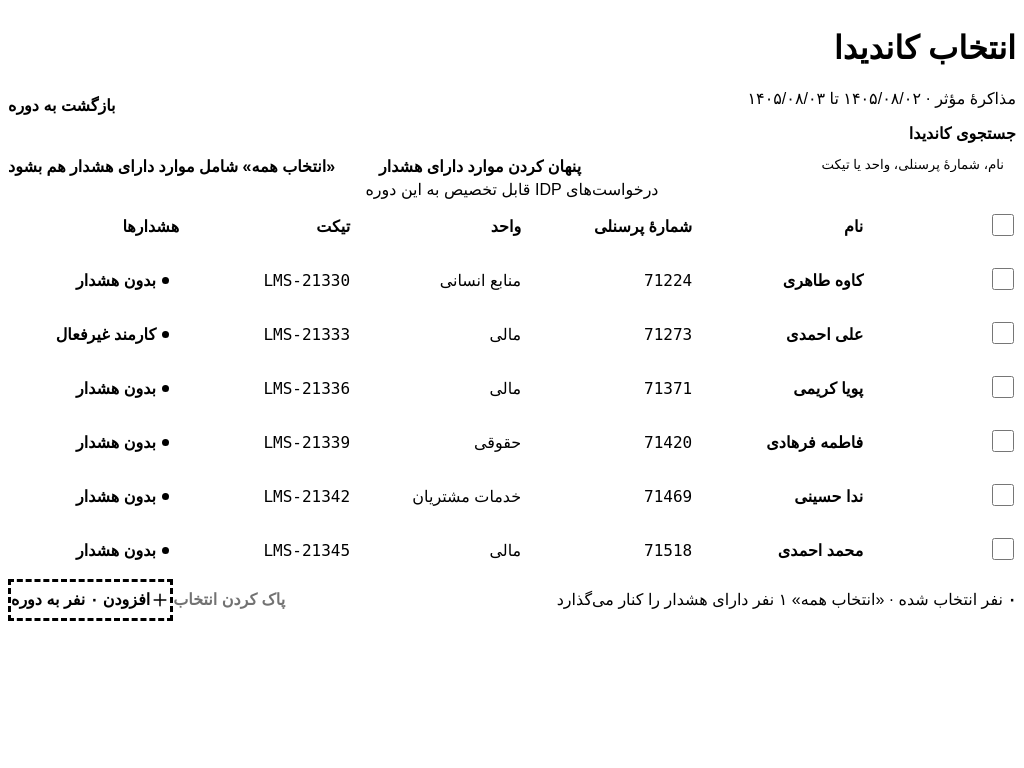
candidates: select-all skips flagged people by default (M2) › shows the count of skipped people and has an explicit include-flagged control
Expected: the text "کارمند غیرفعال" is shown, x1=56 y1=326 x2=156 y2=343
Click the checkbox named "انتخاب همهٔ نتایج بدون هشدار". click: (1003, 225)
box: x1=992 y1=214 x2=1014 y2=236
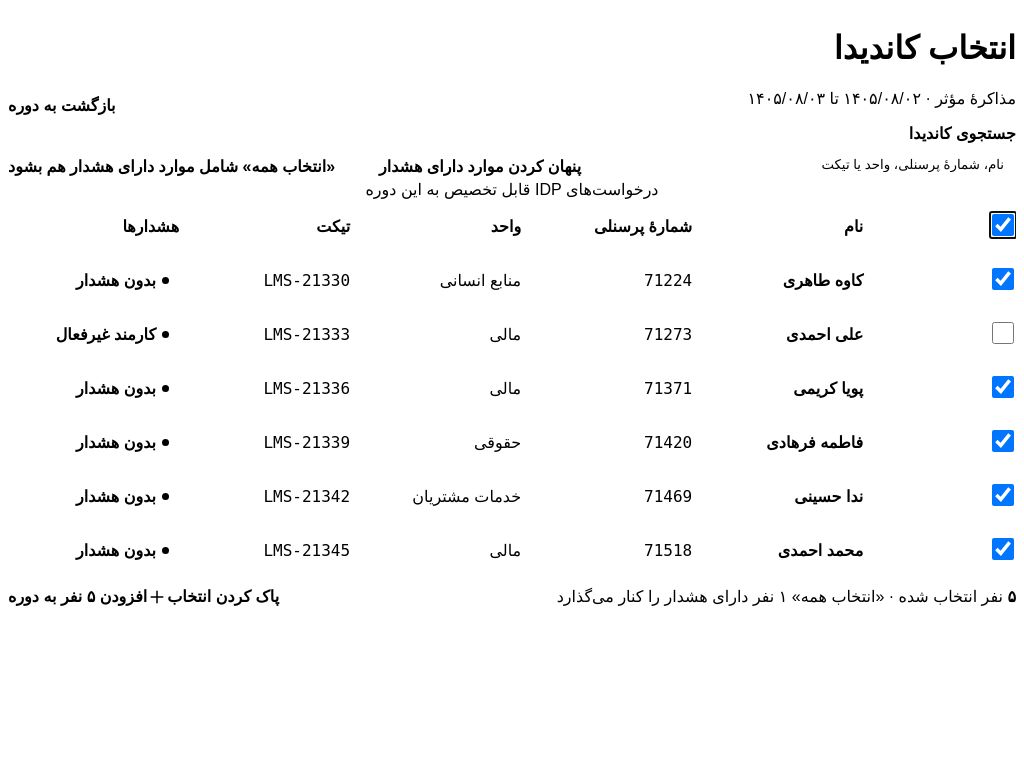
Expected: the text "· «انتخاب همه» ۱ نفر دارای هشدار را کنار می‌گذارد" is shown, x1=557 y1=588 x2=898 y2=605
Expected: the text "مورد دارای هشدار" is not shown
Click the switch labelled "«انتخاب همه» شامل موارد دارای هشدار هم بشود". click: (194, 167)
box: x1=8 y1=154 x2=379 y2=180
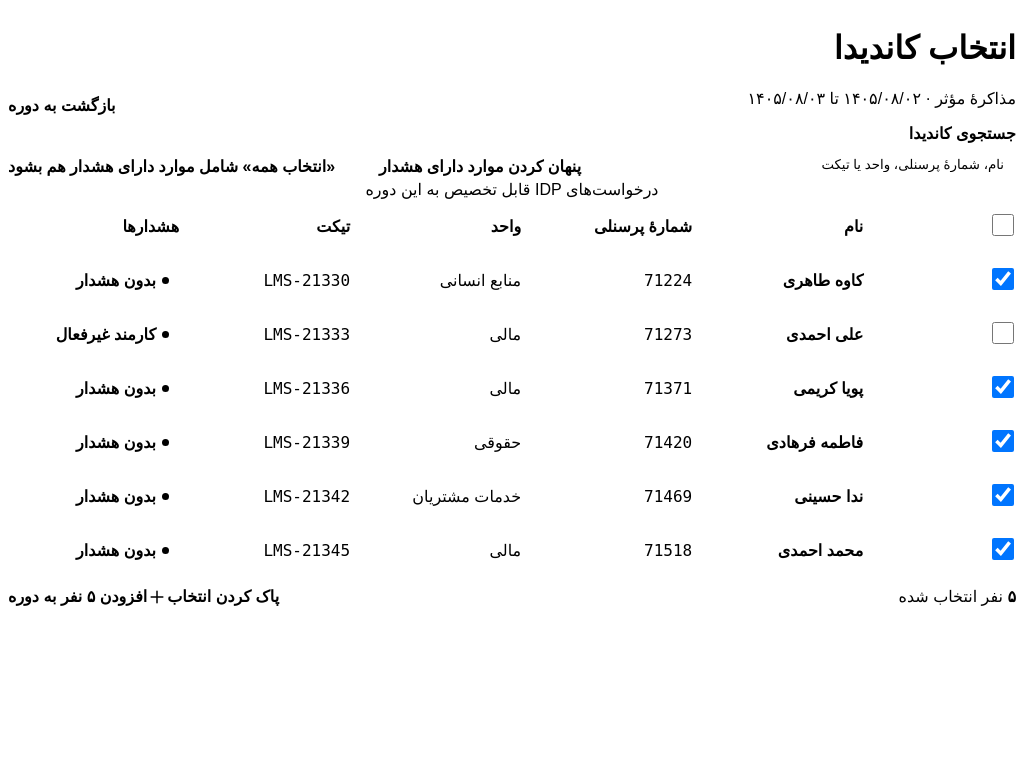
Click the checkbox named "انتخاب همهٔ نتایج". click: (1003, 225)
box: x1=992 y1=214 x2=1014 y2=236
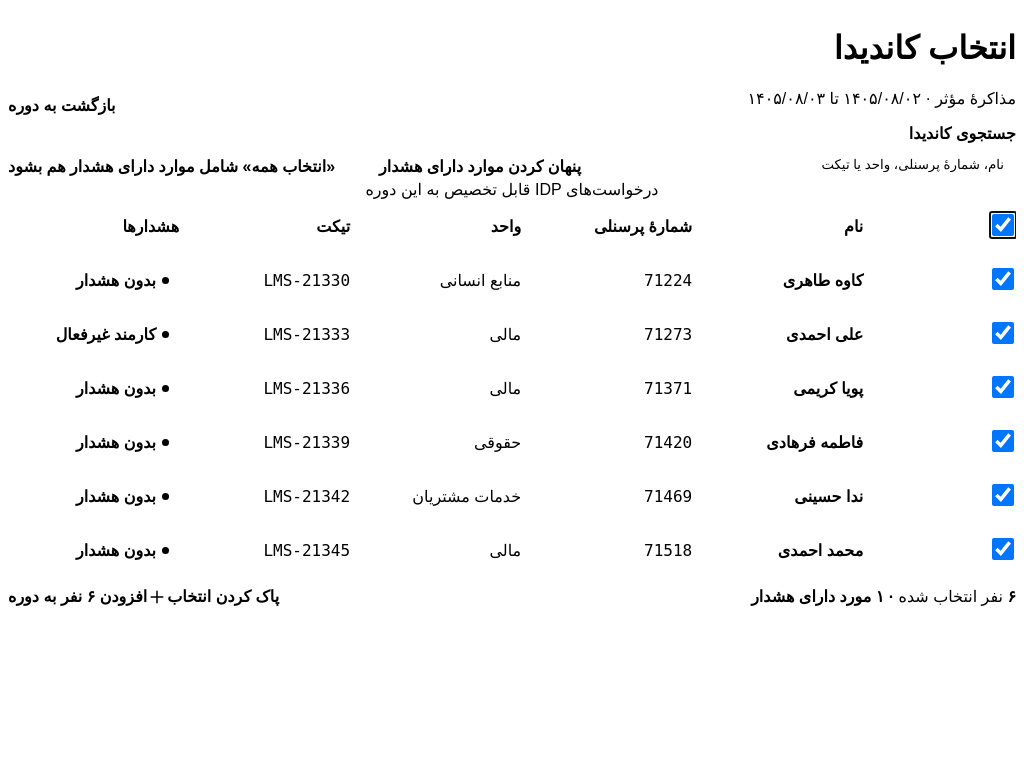
Expected: the checkbox named "انتخاب علی احمدی" is checked, x1=992 y1=322 x2=1014 y2=344
